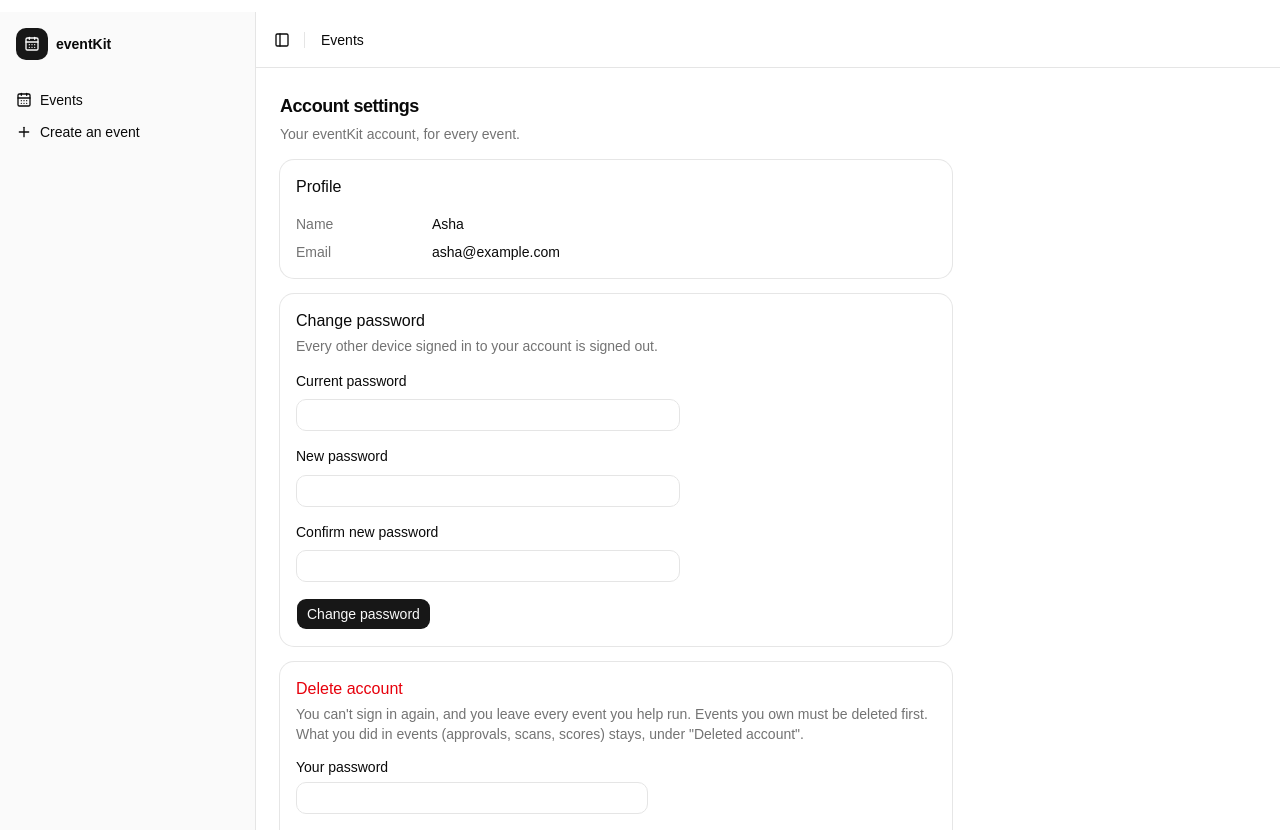
account settings › shows a wrong current password without signing out
The image size is (1280, 830).
In the password field labelled "Current password": (488, 415) [296,399,680,431], type "nope-nope"
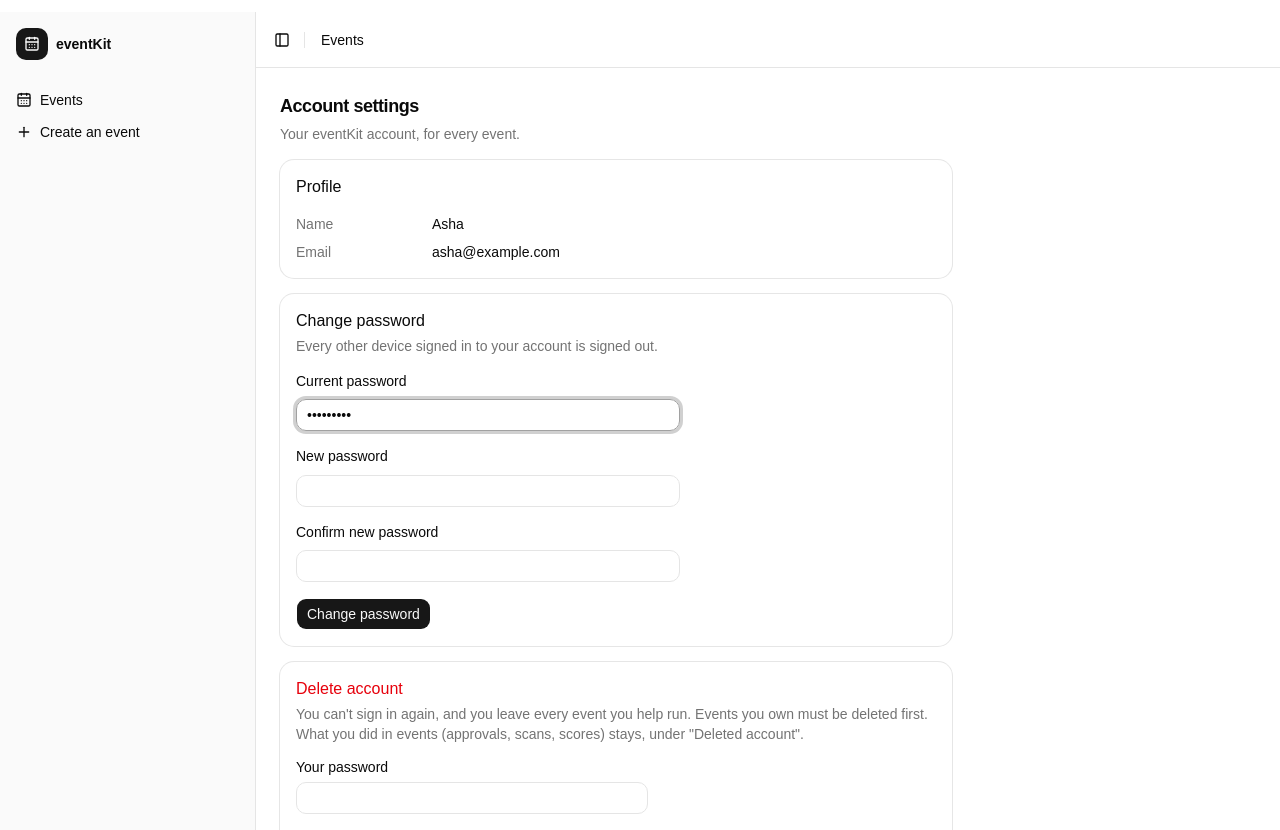
In the password field labelled "New password": (488, 490) [296,474,680,506], type "new-password"
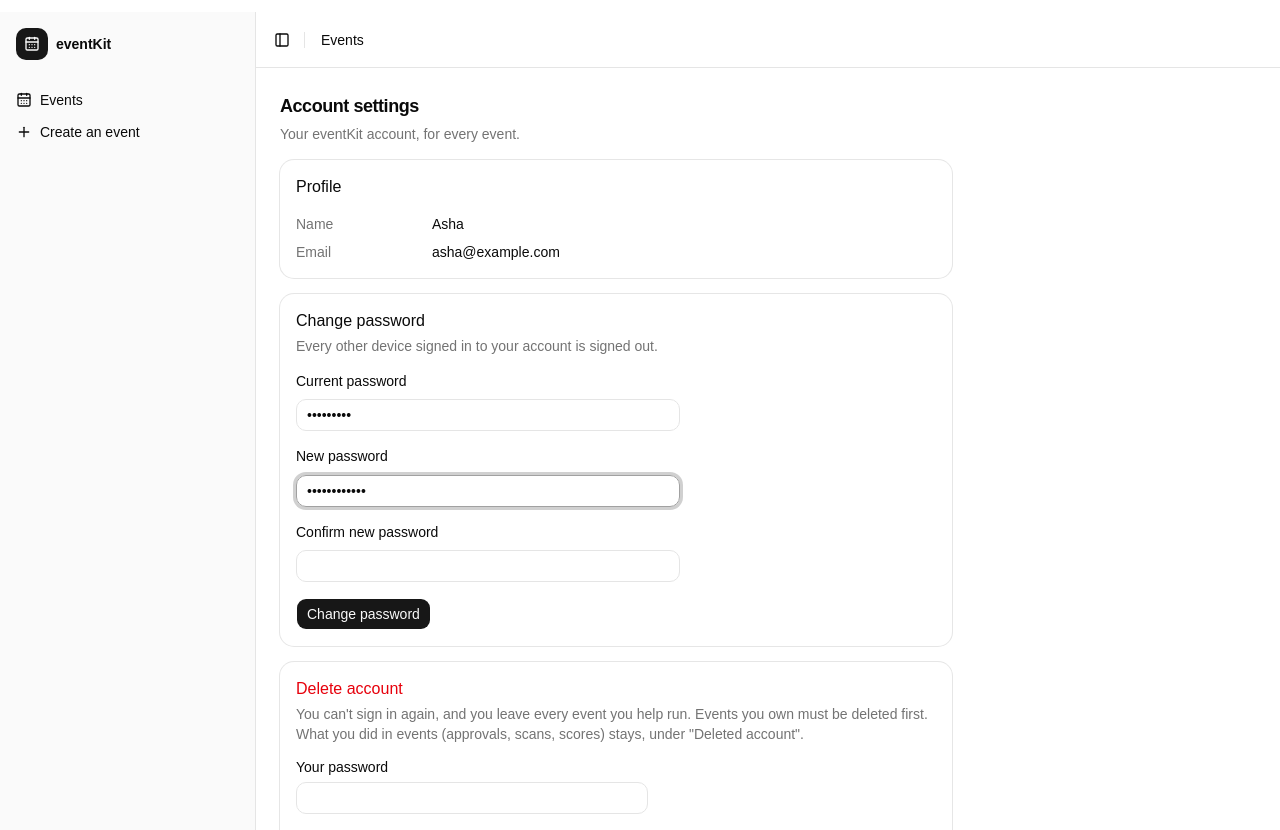
In the password field labelled "Confirm new password": (488, 566) [296,550,680,582], type "new-password"
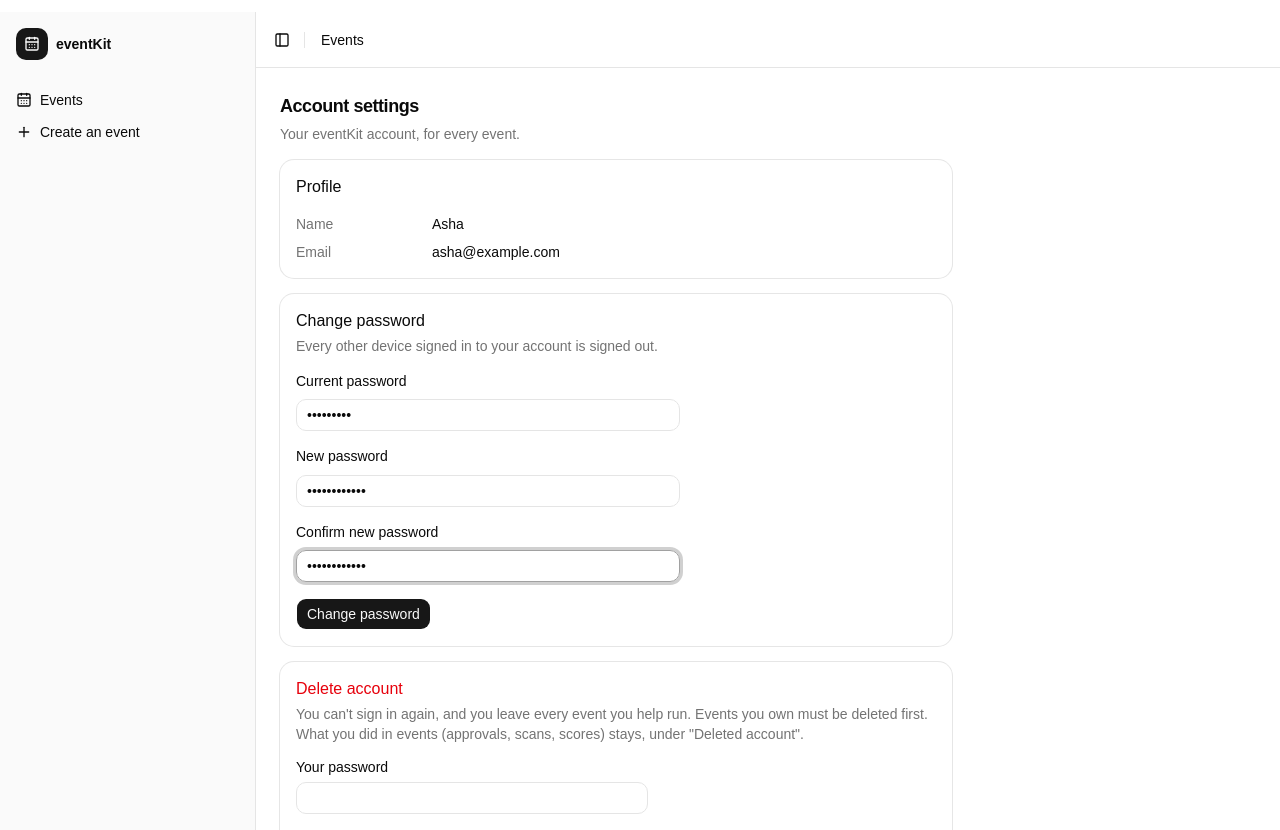
Click the button "Change password": (363, 614) [296,598,431,630]
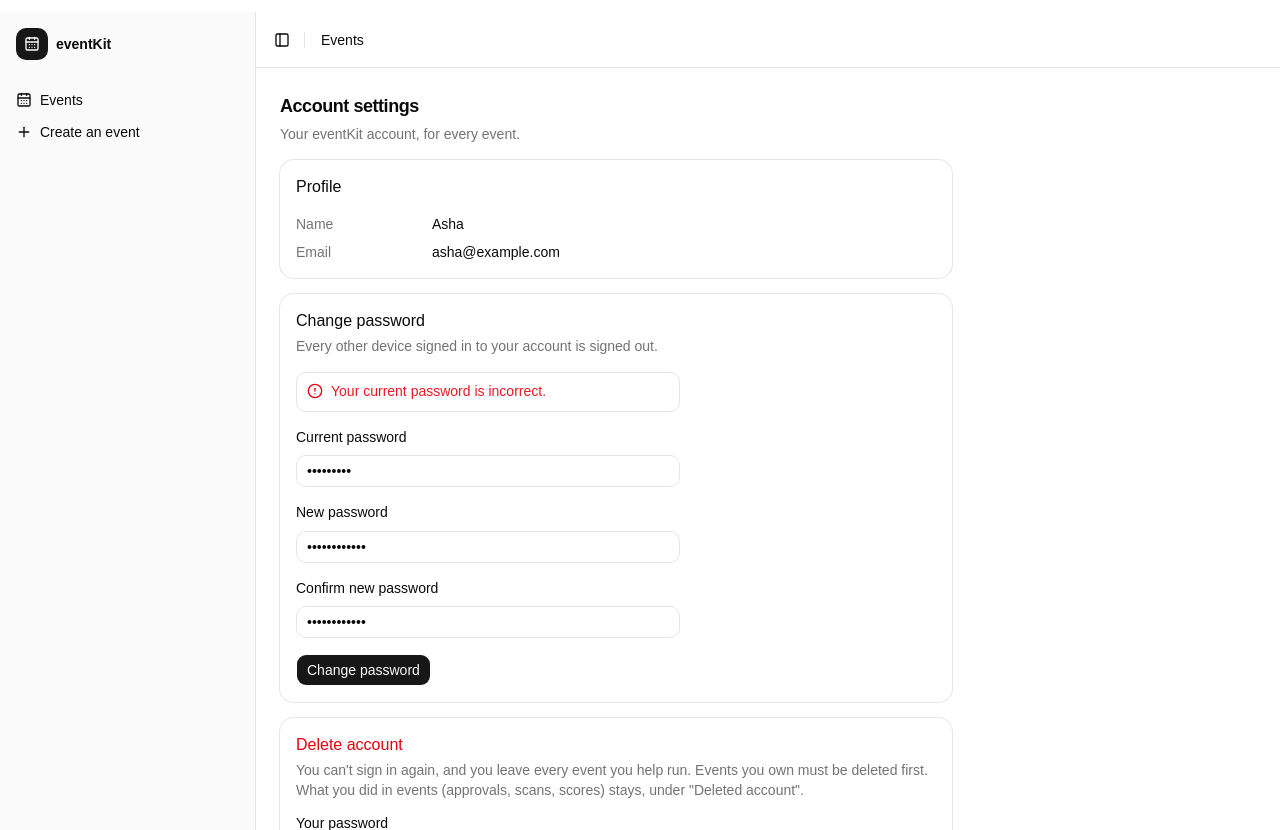
Check: the text "Your current password is incorrect." is shown, box [331,383,546,399]
